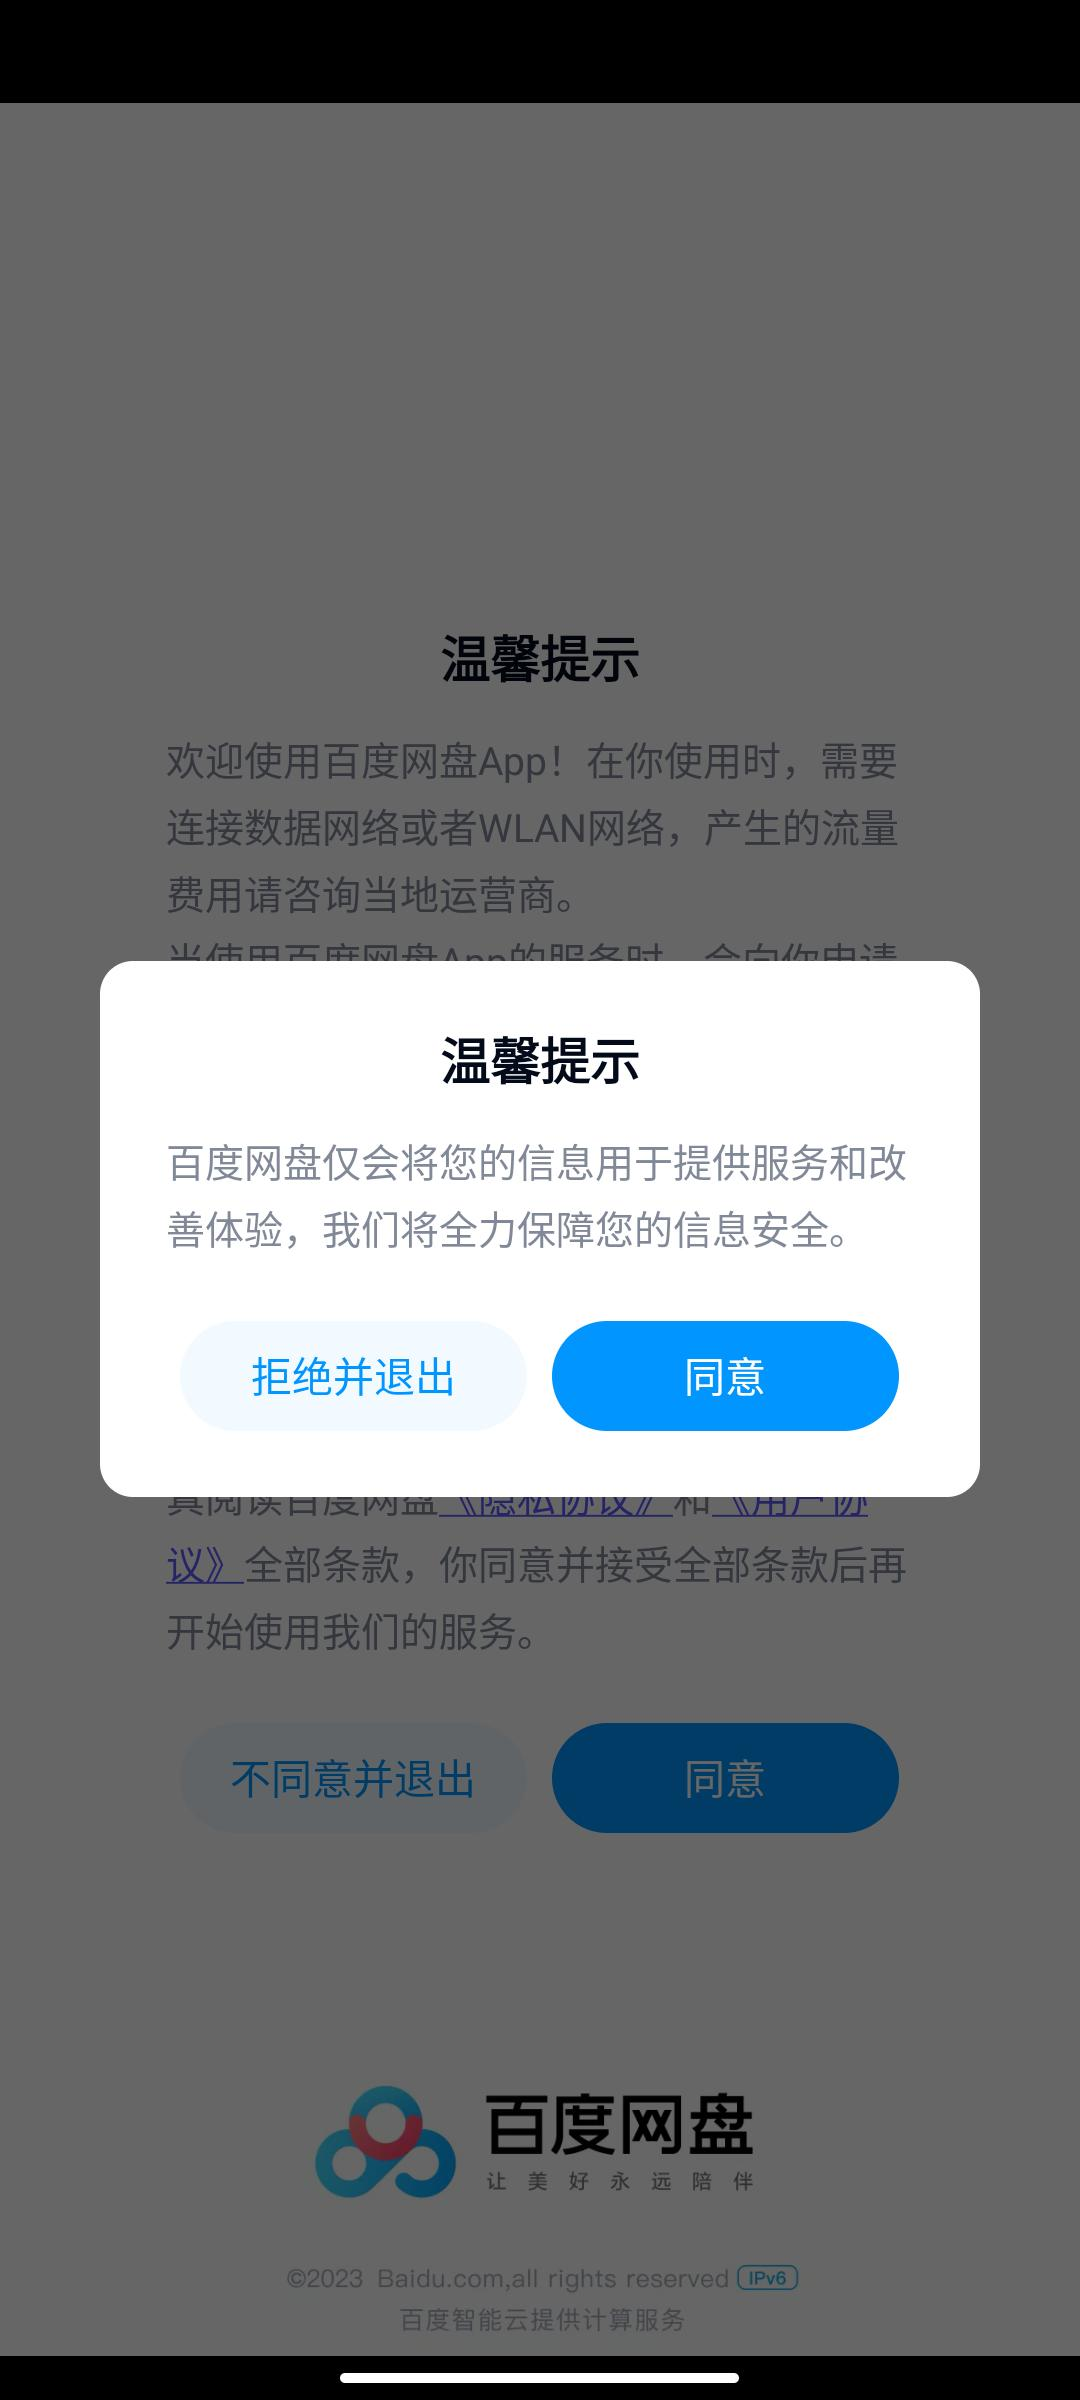ui_group: (98, 958, 984, 1495)
